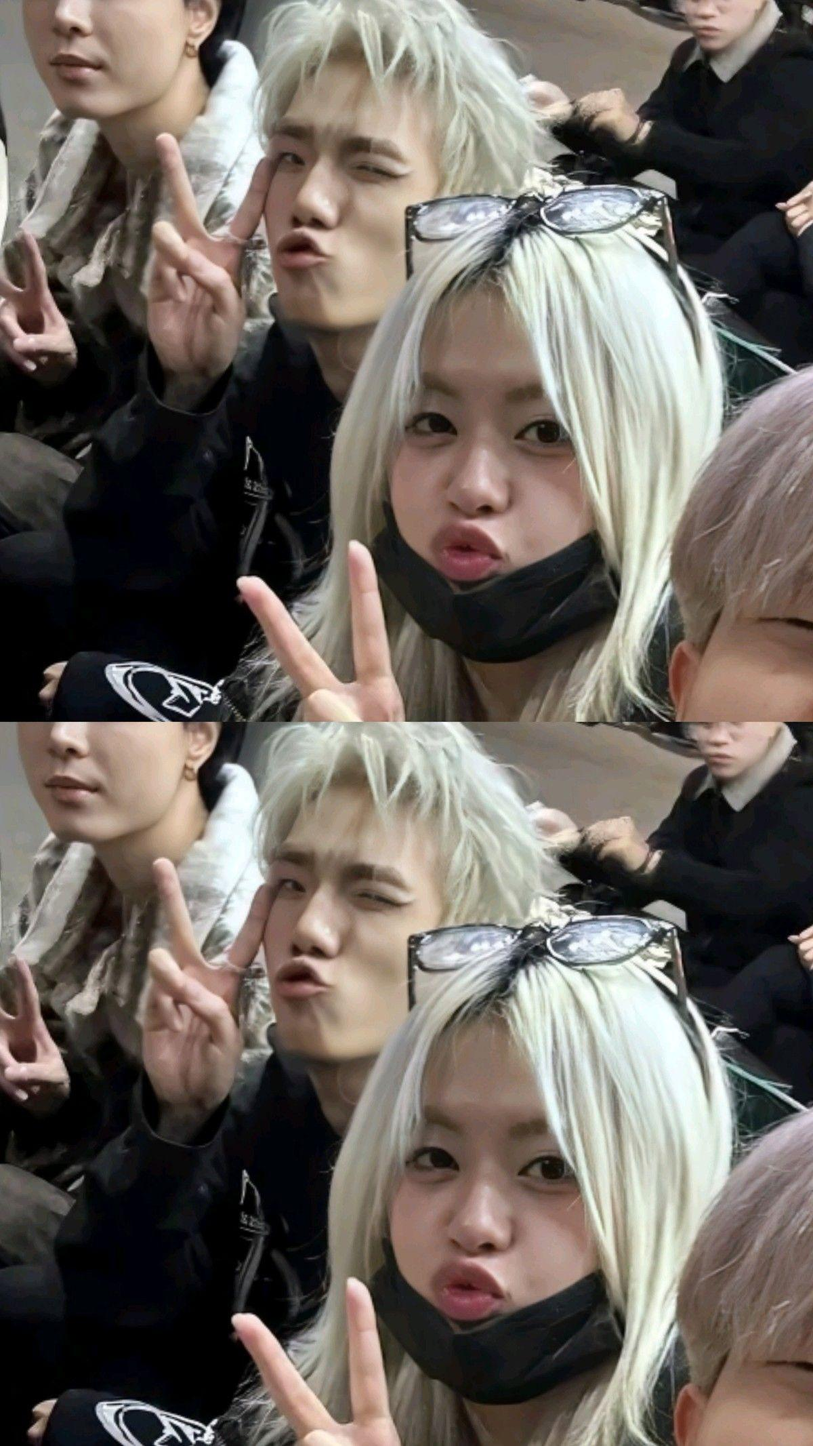non-dog: (0, 723, 577, 1446), (0, 0, 572, 722), (220, 173, 745, 723), (229, 908, 741, 1446), (0, 723, 266, 1281), (0, 0, 270, 542), (526, 723, 813, 1102), (524, 0, 813, 364), (665, 365, 813, 723), (671, 1104, 813, 1446)
